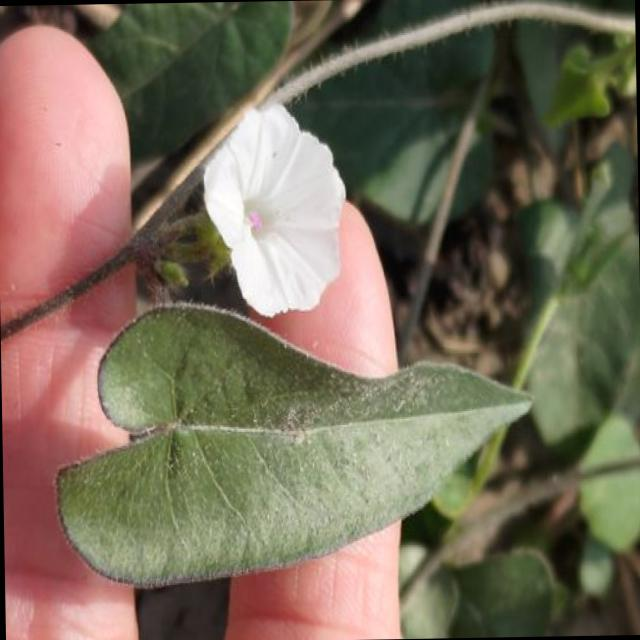ipomoea: (197, 99, 352, 324)
